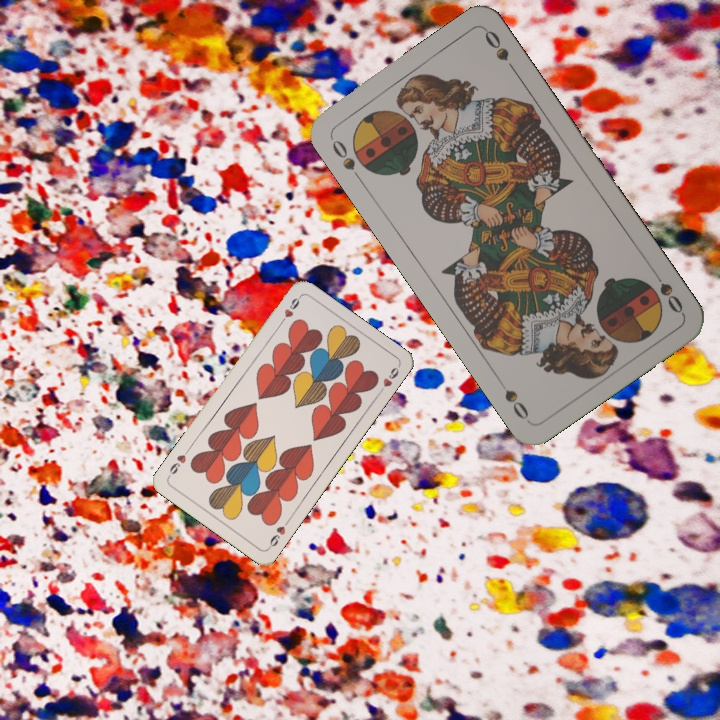H9: (264, 516, 292, 552), (275, 292, 303, 328)
SO: (647, 264, 686, 317), (327, 134, 366, 185)
